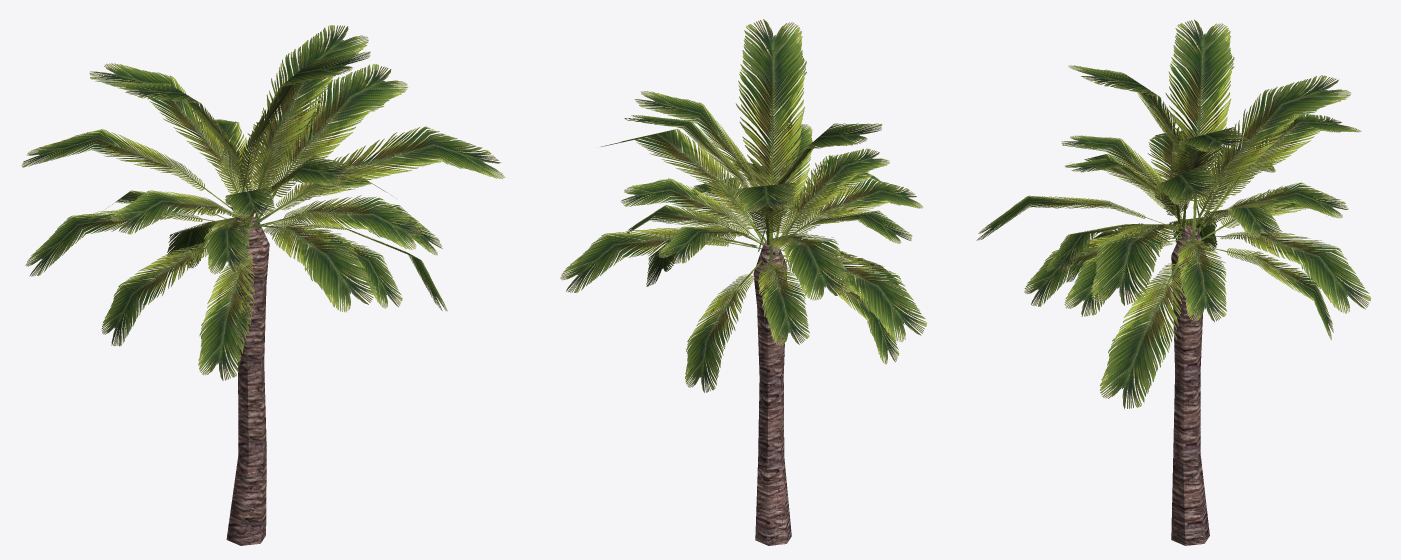
The picture shows the model from 3 angles, left to right: view 1: azimuth 30°, elevation 25°; view 2: azimuth 150°, elevation 25°; view 3: azimuth 270°, elevation 25°; orthographic projection. The views are drawn at different scales.
Parts seen in each view (by area): view 1: Mesh Object; view 2: Mesh Object; view 3: Mesh Object.
Boxes of the visible parts, x1,y1,x2,y2 form: Mesh Object: (21, 25, 505, 545); Mesh Object: (560, 19, 926, 545); Mesh Object: (976, 19, 1371, 545).
Size of the model in its own units: 31.44 by 35.33 by 26.89.
